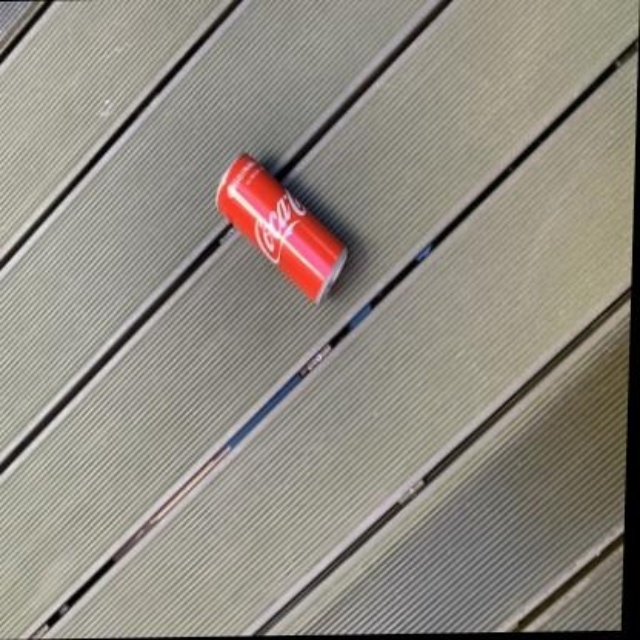trash: (217, 154, 345, 302)
